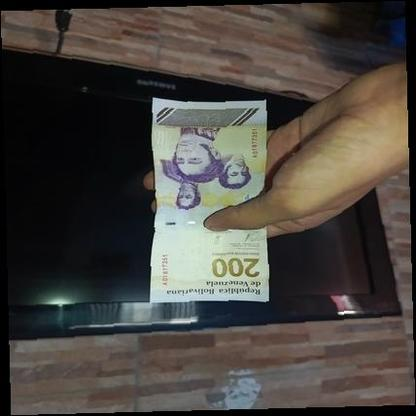two_hundred-front-vef: (150, 97, 272, 303)
